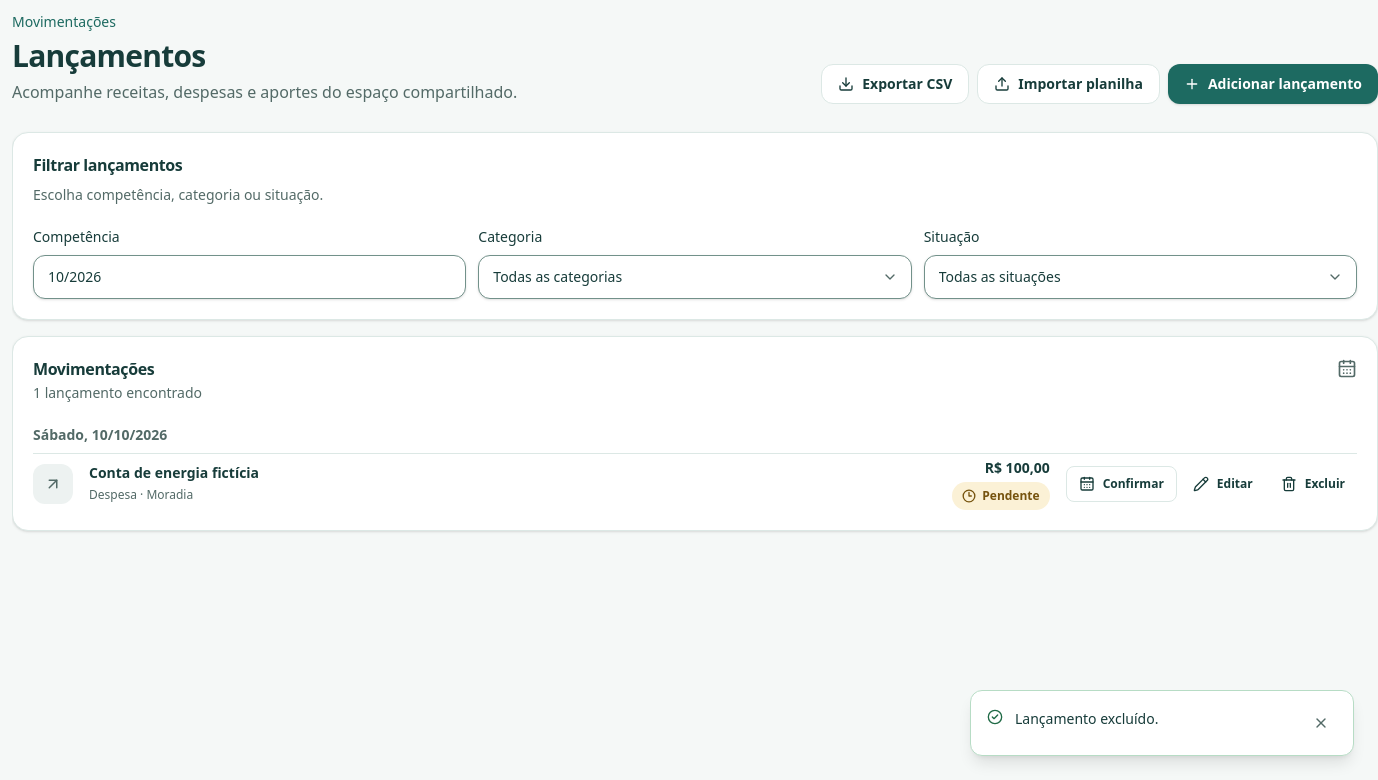
Test case: entries action feedback › confirms a payment with an undo that restores the entry, keeping focus where it was
Click the button with aria-label "Confirmar Conta de energia fictícia" at (1121, 484), box left=1066, top=466, right=1177, bottom=502
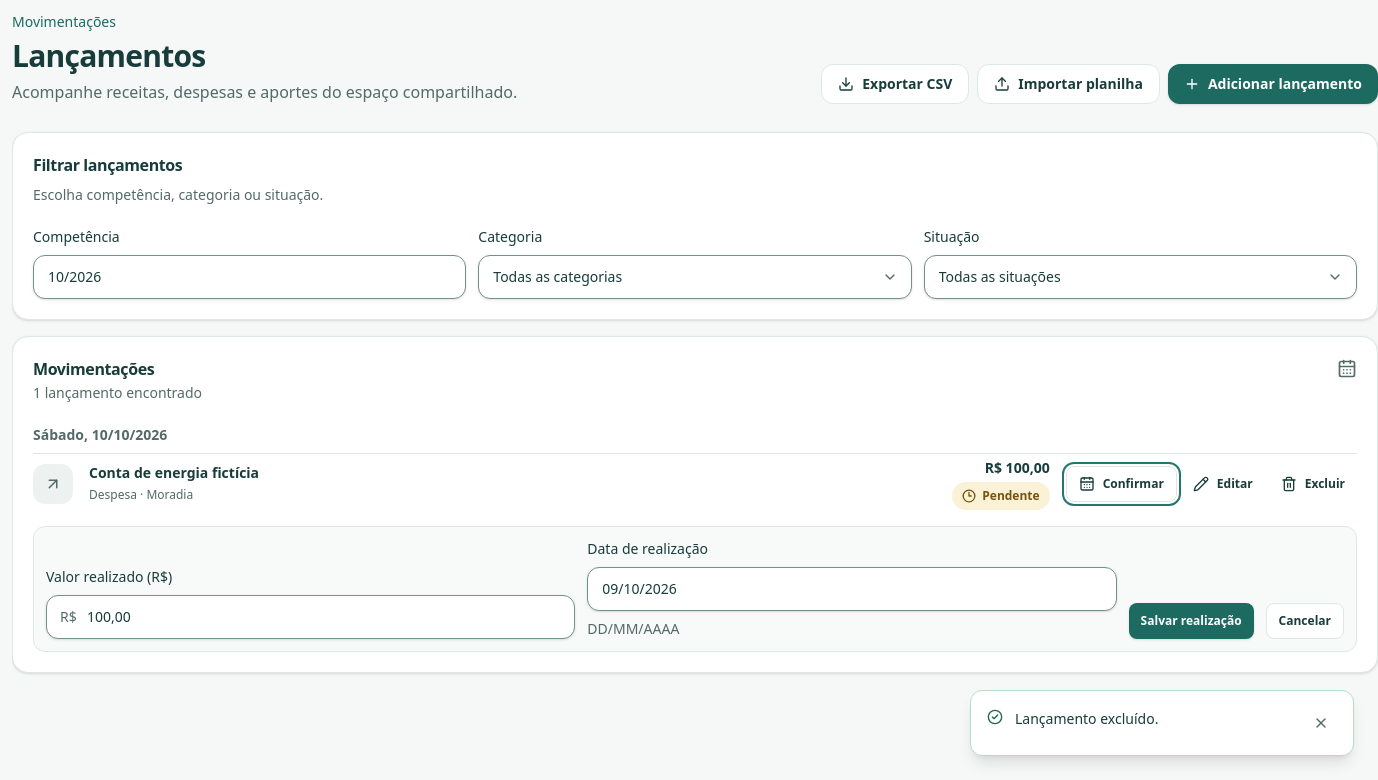
Click the button "Salvar realização" at (1191, 621), box left=1129, top=603, right=1254, bottom=639
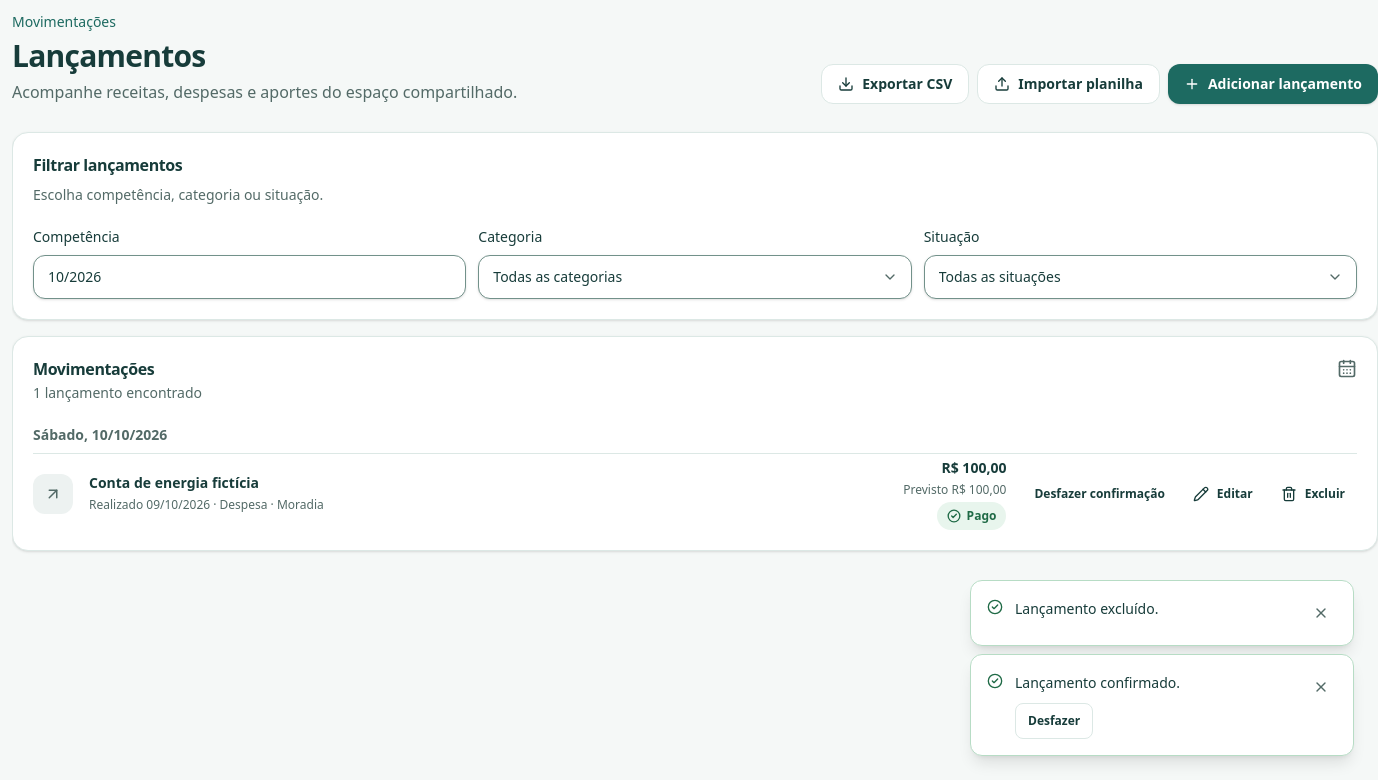
Expected: the text "Lançamento confirmado." is shown, left=1015, top=673, right=1180, bottom=692
Click the button "Desfazer" at (1054, 721), box left=1015, top=703, right=1093, bottom=739
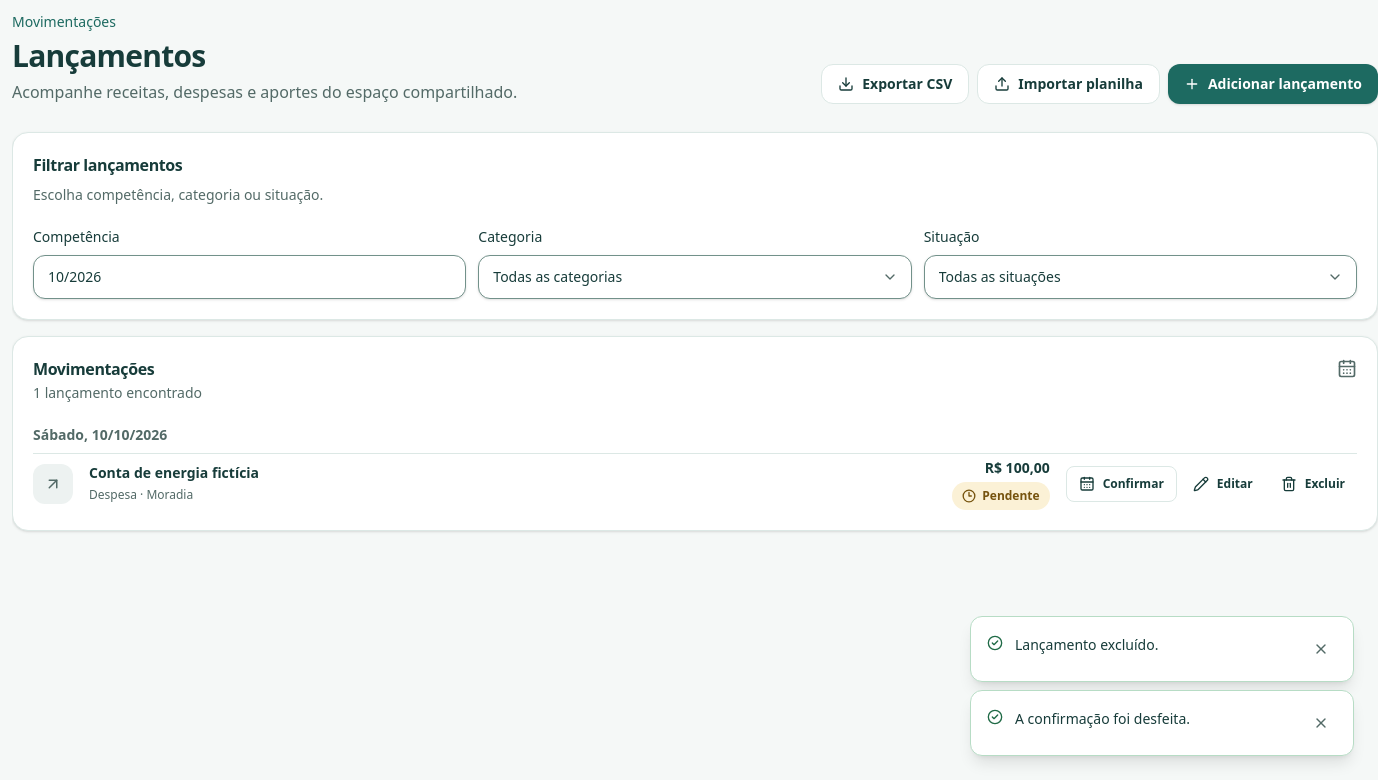
Expected: the text "A confirmação foi desfeita." is shown, left=1015, top=709, right=1190, bottom=728
Expected: the button with aria-label "Confirmar Conta de energia fictícia" is shown, left=1066, top=466, right=1177, bottom=502
